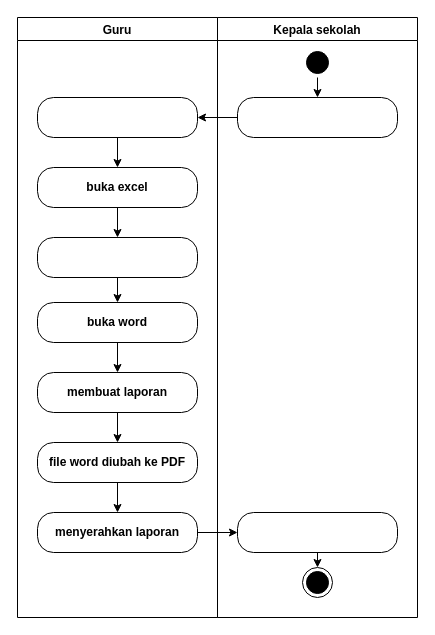
Some shapes in this 435 by 635 pixel diagram are drawn without their labels. Each missing label, with the centre of its shape:
"input kehadiran, nilai, dan menghitung rata-rata" belongs at (117,257).
"mencatat kehadiran dan nilai" belongs at (117,117).
"menerima laporan" belongs at (317,532).
"Menyiapkan lembar absensi dan buku nilai" belongs at (317,117).
